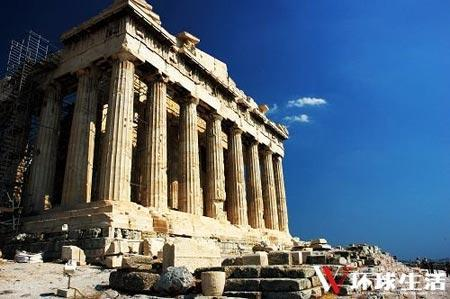akropoli: (11, 14, 303, 260)
